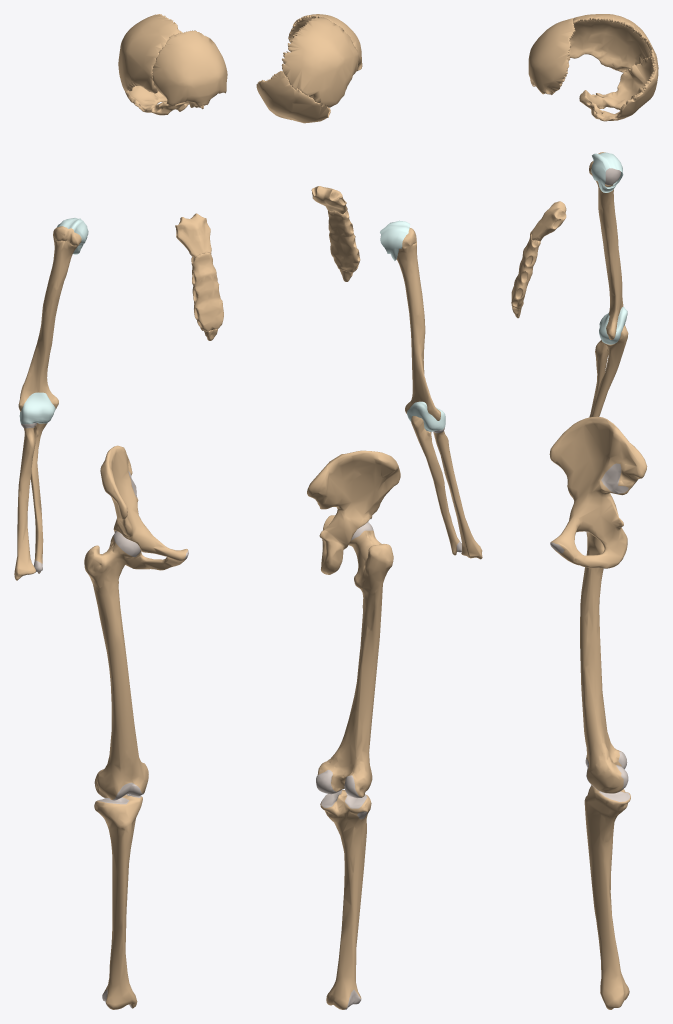
File: fundamentals.glb
The picture shows the model from 3 angles, left to right: view 1: azimuth 30°, elevation 25°; view 2: azimuth 150°, elevation 25°; view 3: azimuth 270°, elevation 25°; orthographic projection. The views are drawn at different scales.
Visible parts, largest first — view 1: bone_skull, bone_femur, bone_tibia, bone_pelvis, bone_humerus, bone_sternum, bone_radius, bone_ulna, joint_elbow; view 2: bone_skull, bone_femur, bone_pelvis, bone_tibia, bone_humerus, bone_sternum, bone_ulna, bone_radius, joint_shoulder, joint_elbow; view 3: bone_pelvis, bone_skull, bone_femur, bone_tibia, bone_humerus, bone_sternum, bone_ulna, joint_shoulder, joint_elbow, bone_radius.
Part boxes in pixels (x1=…): bone_skull: x1=118, y1=14, x2=227, y2=115; bone_femur: x1=84, y1=531, x2=148, y2=800; bone_tibia: x1=94, y1=794, x2=142, y2=1009; bone_pelvis: x1=100, y1=445, x2=188, y2=570; bone_humerus: x1=18, y1=226, x2=81, y2=411; bone_sternum: x1=175, y1=213, x2=223, y2=340; bone_radius: x1=14, y1=423, x2=36, y2=580; bone_ulna: x1=30, y1=423, x2=47, y2=573; joint_elbow: x1=19, y1=392, x2=55, y2=424; bone_skull: x1=256, y1=14, x2=362, y2=123; bone_femur: x1=316, y1=522, x2=393, y2=798; bone_pelvis: x1=307, y1=450, x2=400, y2=574; bone_tibia: x1=320, y1=790, x2=371, y2=1009; bone_humerus: x1=396, y1=227, x2=440, y2=420; bone_sternum: x1=311, y1=186, x2=360, y2=281; bone_ulna: x1=411, y1=416, x2=461, y2=555; bone_radius: x1=433, y1=427, x2=482, y2=559; joint_shoulder: x1=380, y1=220, x2=410, y2=260; joint_elbow: x1=407, y1=401, x2=445, y2=431; bone_pelvis: x1=549, y1=416, x2=647, y2=568; bone_skull: x1=528, y1=14, x2=658, y2=121; bone_femur: x1=580, y1=531, x2=628, y2=793; bone_tibia: x1=584, y1=785, x2=630, y2=1009; bone_humerus: x1=589, y1=152, x2=623, y2=339; bone_sternum: x1=511, y1=201, x2=566, y2=318; bone_ulna: x1=591, y1=325, x2=628, y2=416; joint_shoulder: x1=591, y1=152, x2=623, y2=192; joint_elbow: x1=599, y1=307, x2=627, y2=344; bone_radius: x1=589, y1=340, x2=608, y2=417.
Size of the model in its own units: 0.3497 by 1.63 by 0.2156.
